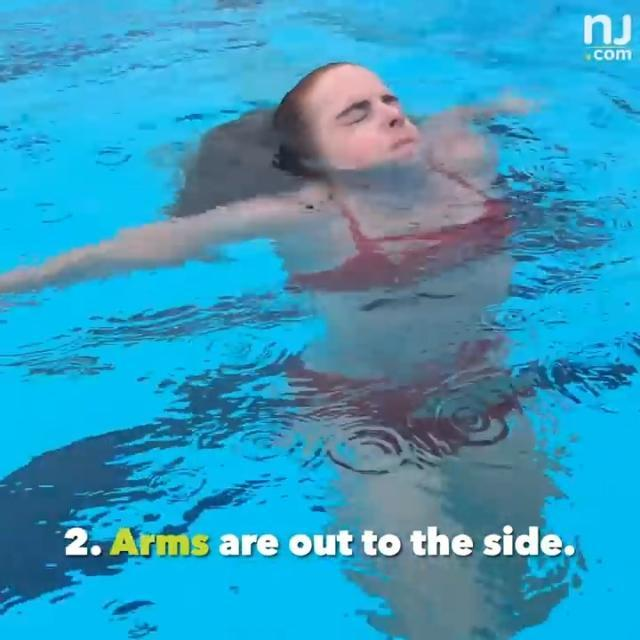Drowning: (199, 50, 501, 215)
